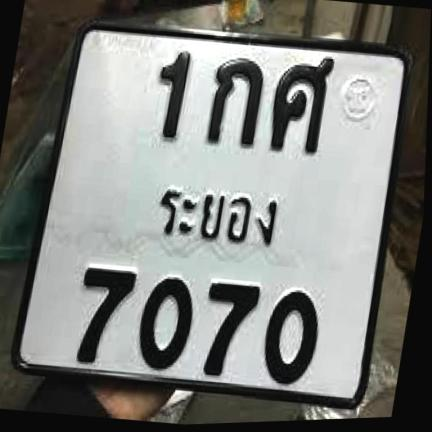0: (251, 285, 338, 394), (126, 264, 208, 376)
1: (155, 38, 192, 142)
7: (184, 273, 271, 384), (60, 257, 142, 369)
A01: (200, 40, 264, 152)
A38: (268, 53, 347, 159)
RYG: (142, 176, 288, 249)
